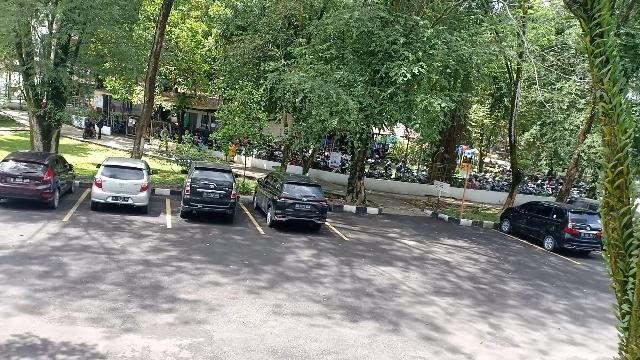occupied: (501, 209, 605, 256), (249, 182, 331, 234), (77, 179, 169, 223), (0, 166, 76, 219), (168, 182, 248, 226)
